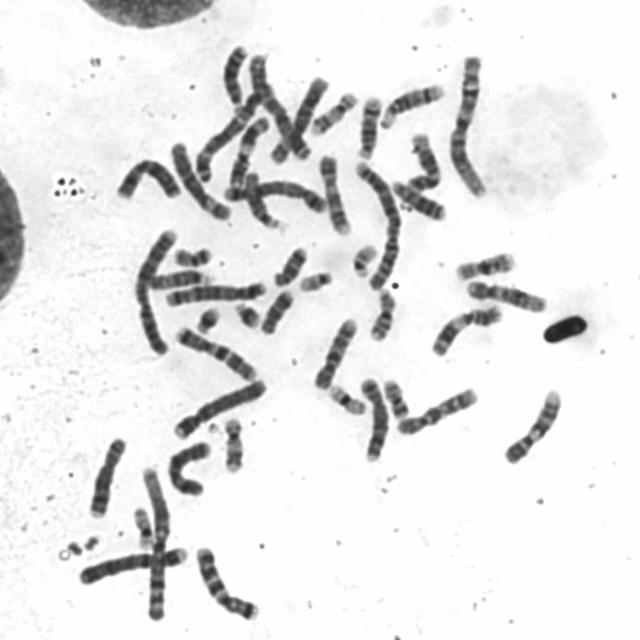A1: (445, 52, 493, 200), (136, 464, 174, 622)
A2: (352, 158, 403, 290), (131, 226, 179, 360)
A3: (193, 83, 274, 184), (246, 51, 310, 160)
B4: (172, 378, 268, 441), (76, 544, 188, 586)
B5: (222, 179, 328, 215), (161, 279, 267, 308)
C10: (391, 385, 479, 436), (312, 316, 360, 391)
C11: (430, 306, 503, 359), (229, 115, 270, 187)
C12: (464, 281, 550, 314), (404, 133, 442, 197)
C6: (269, 76, 329, 166), (168, 140, 233, 222)
C7: (194, 544, 261, 622), (173, 327, 258, 384)
C8: (85, 436, 126, 518), (357, 377, 391, 462)
C9: (501, 385, 562, 465), (318, 152, 351, 235)
D13: (389, 178, 448, 224), (221, 45, 249, 115)
D14: (379, 81, 445, 131), (355, 94, 380, 160)
D15: (244, 170, 289, 235), (147, 268, 214, 292)
E16: (455, 250, 518, 282), (366, 286, 399, 345)
E17: (308, 88, 357, 136), (218, 419, 249, 475)
E18: (258, 288, 296, 336), (271, 244, 308, 290)
F19: (322, 384, 364, 417), (130, 506, 156, 551)
F20: (380, 378, 411, 420), (174, 244, 214, 270)
G21: (194, 304, 221, 335), (233, 301, 261, 328)
G22: (348, 242, 378, 280), (297, 270, 333, 294)
X: (114, 158, 184, 200), (167, 440, 212, 497)
